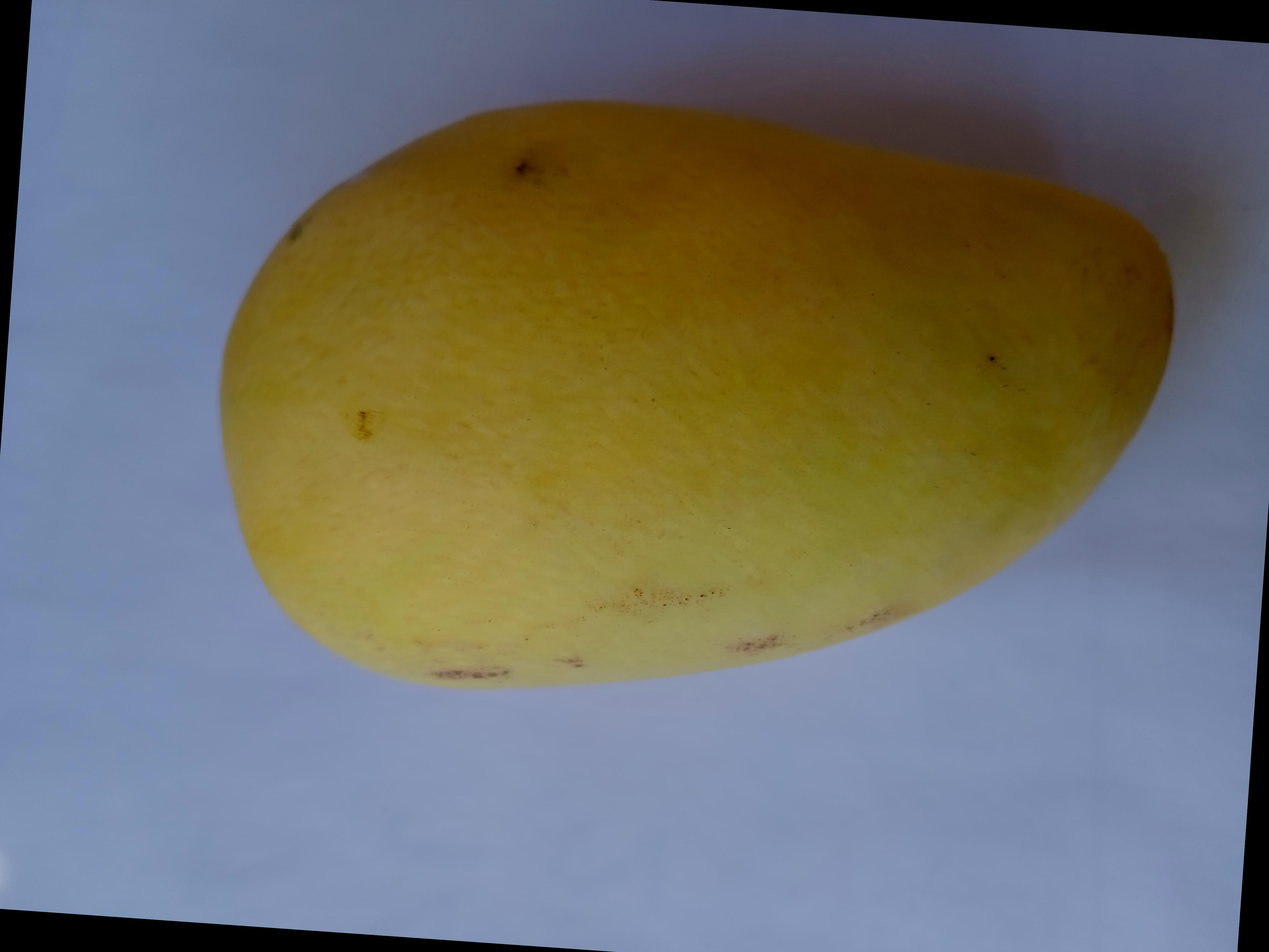Mango Ripe: (203, 0, 1269, 720)
